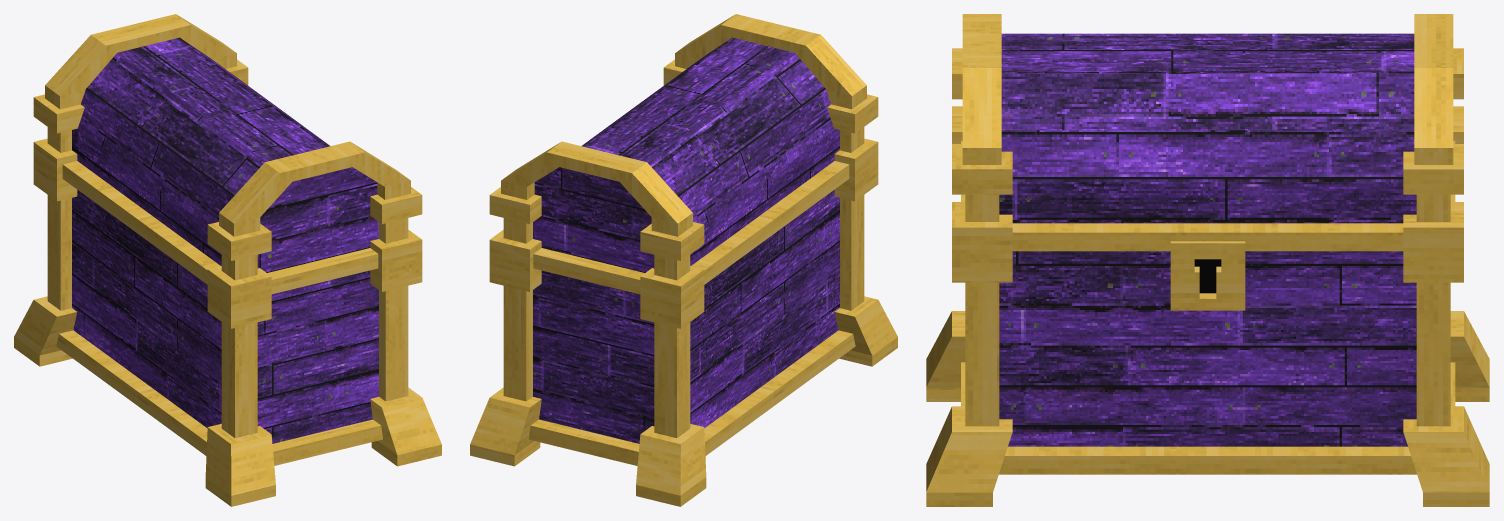
File: pixel_chest4_lowpoly.fbx
3 views of the same model, side by side, from view 1: azimuth 30°, elevation 25°; view 2: azimuth 150°, elevation 25°; view 3: azimuth 270°, elevation 25° (orthographic). The views are drawn at different scales.
Visible parts, largest first — view 1: psx_chest4_base, psx_chest4_metal3, psx_chest4_metal2, psx_chest4_metal4, psx_chest4_metal; view 2: psx_chest4_base, psx_chest4_metal3, psx_chest4_metal2, psx_chest4_metal4, psx_chest4_metal; view 3: psx_chest4_base, psx_chest4_metal3, psx_chest4_metal2, psx_chest4_metal, psx_chest4_metal4, psx_chest4_locker, psx_chest4_locker2.
Part boxes in pixels (x1=…): psx_chest4_base: x1=72, y1=37, x2=378, y2=443; psx_chest4_metal3: x1=14, y1=59, x2=441, y2=506; psx_chest4_metal2: x1=56, y1=161, x2=382, y2=465; psx_chest4_metal4: x1=45, y1=14, x2=410, y2=236; psx_chest4_metal: x1=47, y1=127, x2=408, y2=437; psx_chest4_base: x1=533, y1=37, x2=839, y2=443; psx_chest4_metal3: x1=470, y1=59, x2=897, y2=506; psx_chest4_metal2: x1=528, y1=161, x2=855, y2=465; psx_chest4_metal4: x1=501, y1=14, x2=866, y2=236; psx_chest4_metal: x1=503, y1=127, x2=864, y2=437; psx_chest4_base: x1=999, y1=33, x2=1416, y2=446; psx_chest4_metal3: x1=926, y1=48, x2=1489, y2=506; psx_chest4_metal2: x1=961, y1=141, x2=1455, y2=474; psx_chest4_metal: x1=965, y1=194, x2=1450, y2=426; psx_chest4_metal4: x1=962, y1=14, x2=1453, y2=164; psx_chest4_locker: x1=1170, y1=241, x2=1245, y2=310; psx_chest4_locker2: x1=1194, y1=259, x2=1221, y2=293.
Bounding box in the file's own units: 279 × 391 × 499.
